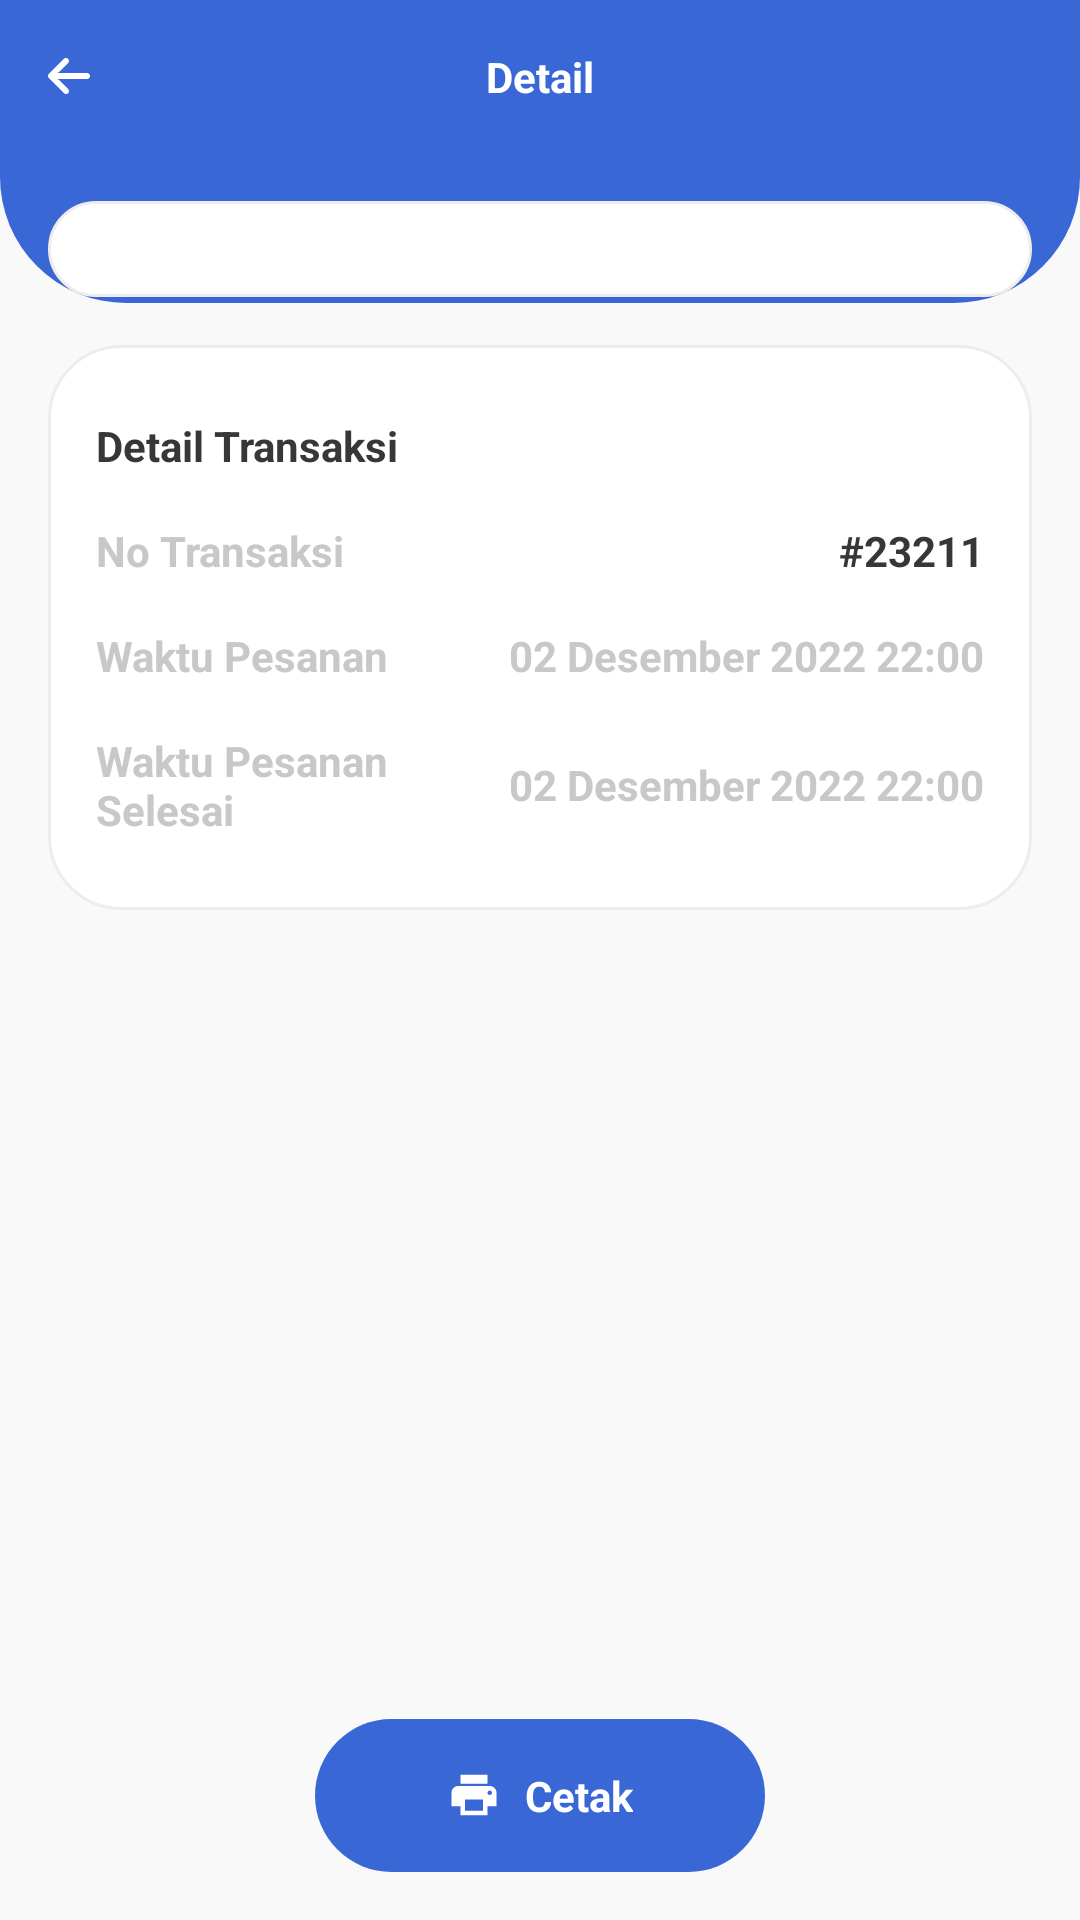

Icon click points for this 1080×1920 phone screenshot, format point (x, y):
arrow: point (69, 76)
